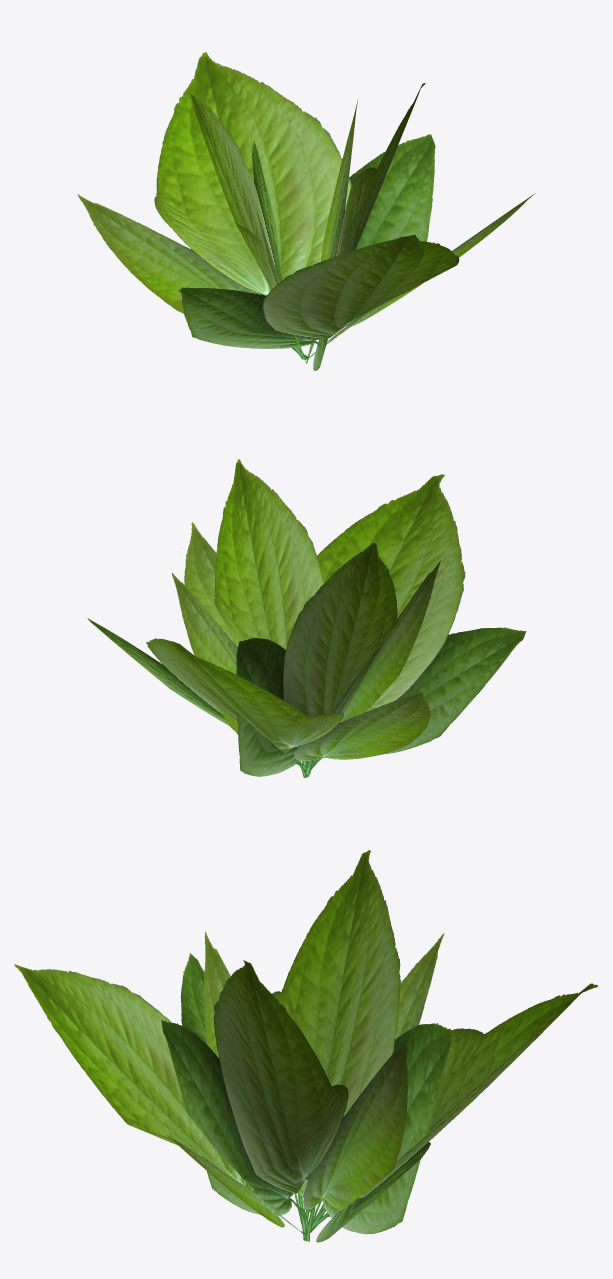
Rendered from Seedling.FBX.
The picture shows the model from 3 angles, top to bottom: view 1: azimuth 30°, elevation 25°; view 2: azimuth 150°, elevation 25°; view 3: azimuth 270°, elevation 25°; orthographic projection. The views are drawn at different scales.
Visible parts, largest first — view 1: Seedling; view 2: Seedling; view 3: Seedling.
Part boxes in pixels (x1,y1,x2,y2): Seedling: (77,52,535,370); Seedling: (87,459,526,777); Seedling: (14,850,597,1242).
Size of the model in its own units: 31.5 by 24.22 by 38.17.
